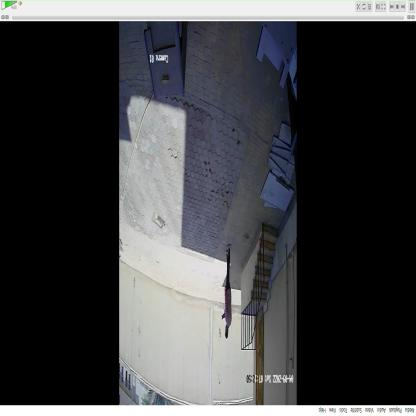handgun: (219, 308, 226, 321)
